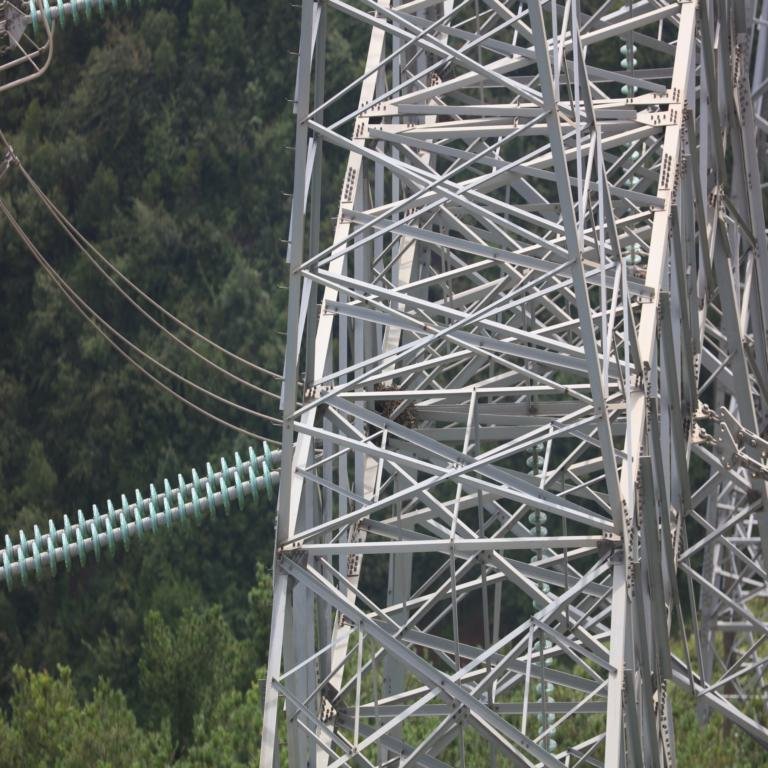nest: (372, 385, 420, 446)
